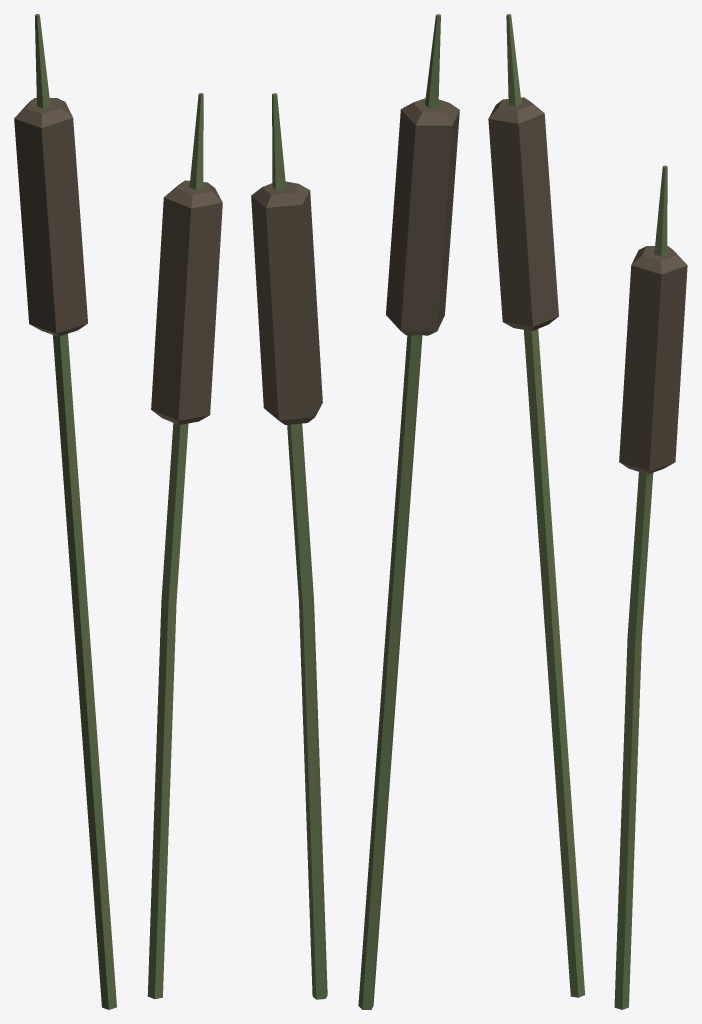
Rendered from SM_Envr_Nature_Plant_Reed_02.fbx.
The picture shows the model from 3 angles, left to right: view 1: azimuth 30°, elevation 25°; view 2: azimuth 150°, elevation 25°; view 3: azimuth 330°, elevation 25°; orthographic projection. The views are drawn at different scales.
Parts seen in each view (by area): view 1: SM_Envr_Nature_Plant_Reed_02; view 2: SM_Envr_Nature_Plant_Reed_02; view 3: SM_Envr_Nature_Plant_Reed_02.
Boxes of the visible parts, x1,y1,x2,y2 form: SM_Envr_Nature_Plant_Reed_02: [14, 14, 222, 1009]; SM_Envr_Nature_Plant_Reed_02: [251, 14, 459, 1009]; SM_Envr_Nature_Plant_Reed_02: [488, 14, 687, 1009].
Size of the model in its own units: 22.24 by 107 by 5.42.
